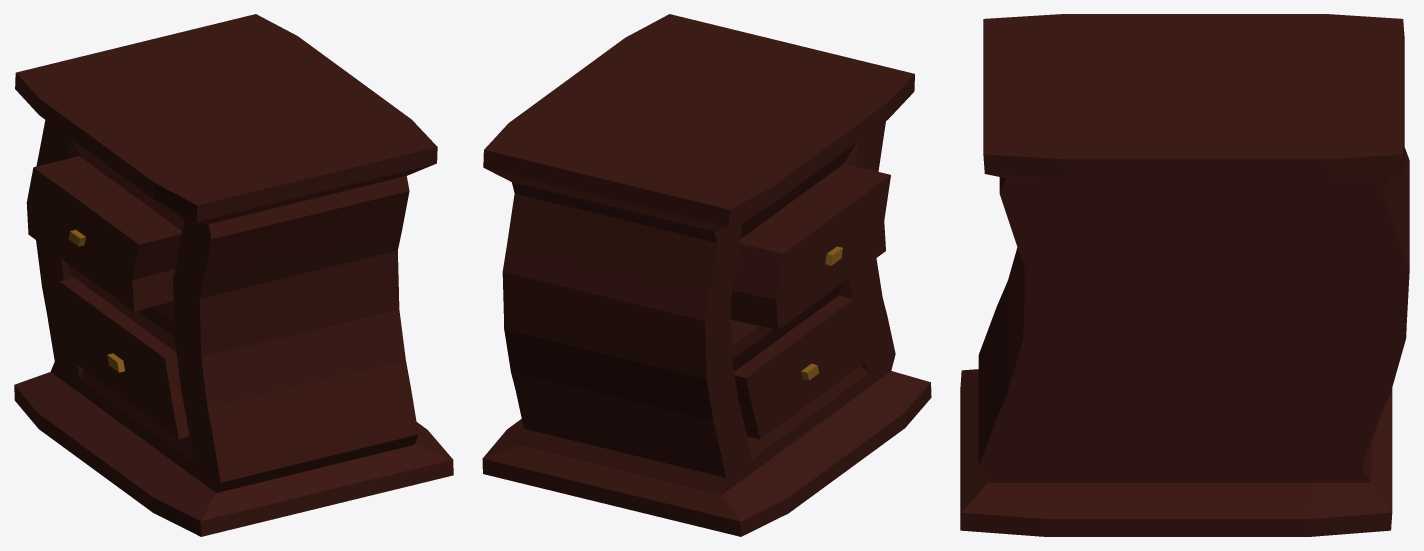
File: kKommode1.fbx
The picture shows the model from 3 angles, left to right: view 1: azimuth 30°, elevation 25°; view 2: azimuth 150°, elevation 25°; view 3: azimuth 270°, elevation 25°; orthographic projection. The views are drawn at different scales.
Parts seen in each view (by area): view 1: Schrank5.1; view 2: Schrank5.1; view 3: Schrank5.1.
Part boxes in pixels (x1=…): Schrank5.1: x1=14, y1=14, x2=453, y2=536; Schrank5.1: x1=482, y1=14, x2=931, y2=536; Schrank5.1: x1=960, y1=14, x2=1409, y2=536.
Bounding box in the file's own units: 128 × 141 × 154.
